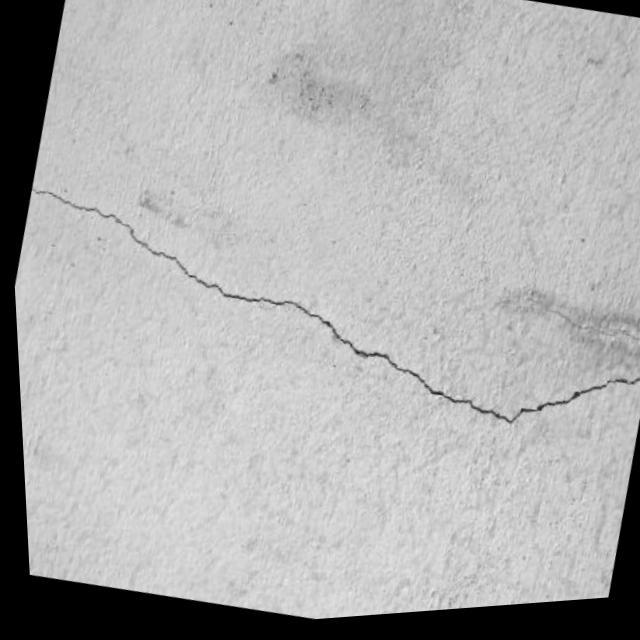Crack: (33, 181, 635, 428)
